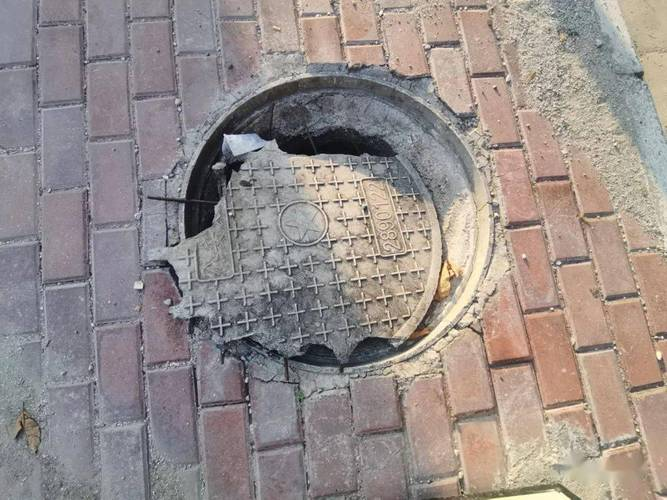broke: (149, 56, 514, 389)
